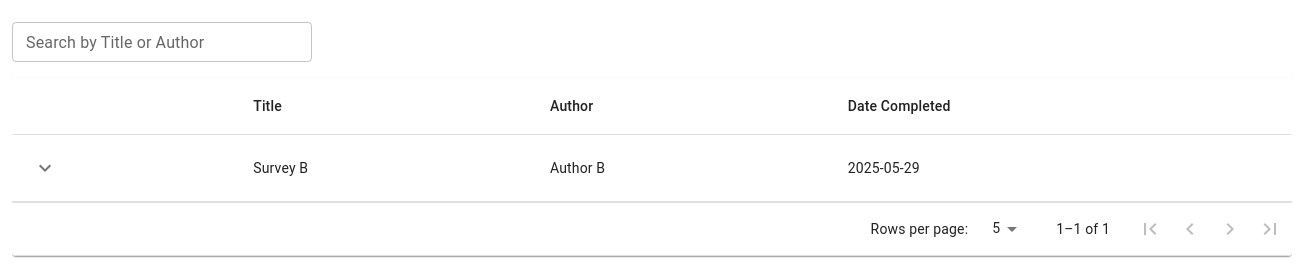
Test: Completed Surveys › Dont show survey on bad search
Expected: the text "Survey B" is shown, [237,134,534,202]
Type "Survey A" into the field labelled "Search by Title or Author".
click(162, 42); type("Survey A")  # box [12,22,312,62]
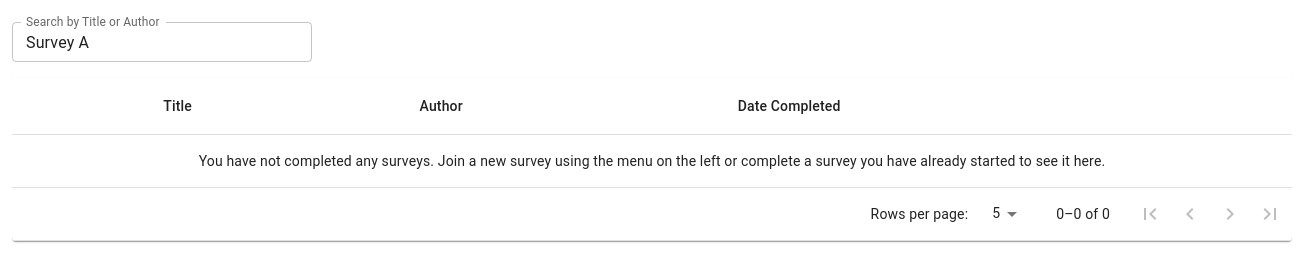
Expected: the text "Survey B" is gone
